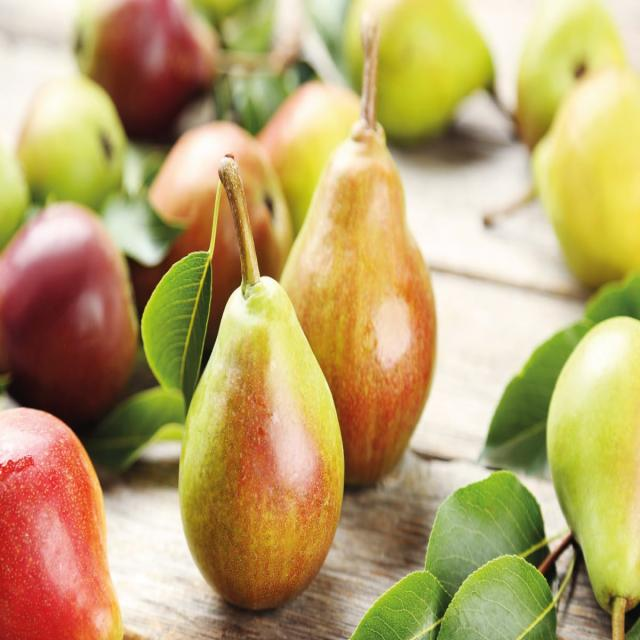pera: (155, 145, 358, 616), (274, 29, 450, 539)
